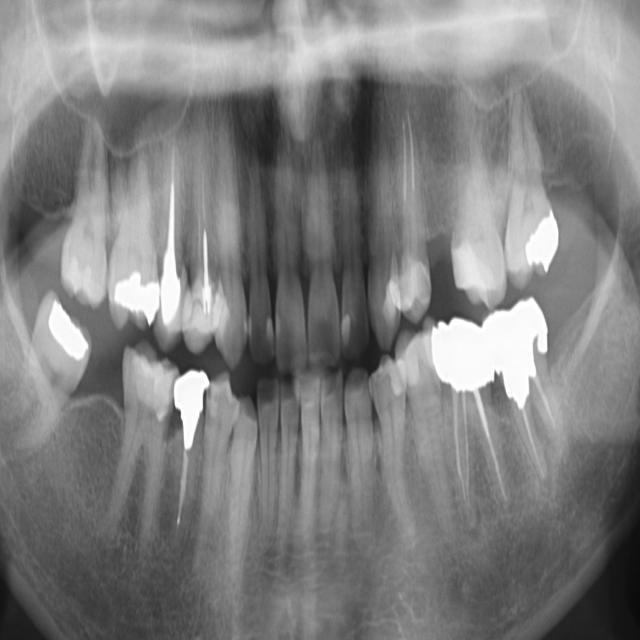infected-teeth: (486, 295, 565, 493), (176, 145, 235, 356), (438, 324, 506, 507), (149, 130, 196, 347), (391, 93, 431, 322), (167, 388, 207, 555)
